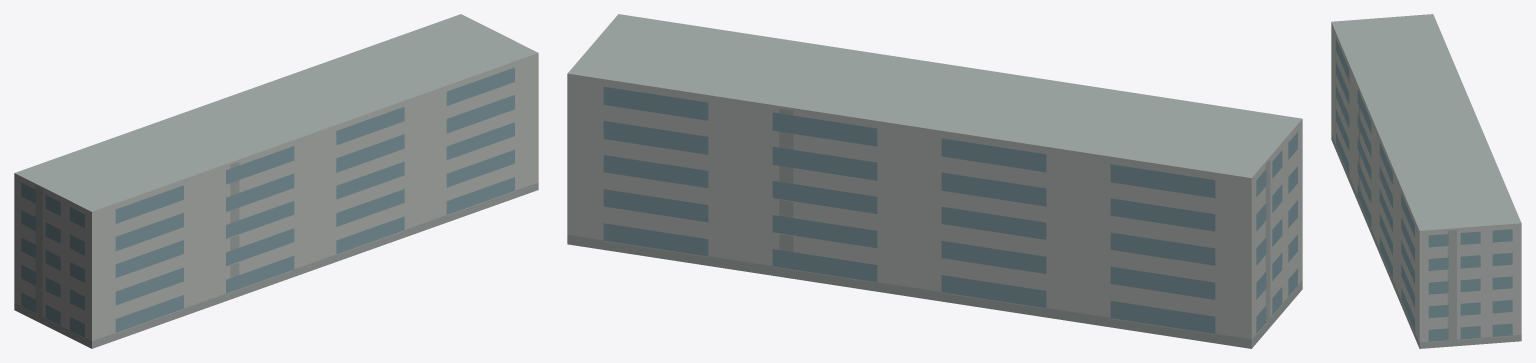
Rendered from residential-e2cade1a-f051-453e-b079-c11fb01564d8.glb.
3 views of the same model, side by side, from view 1: azimuth 30°, elevation 25°; view 2: azimuth 150°, elevation 25°; view 3: azimuth 270°, elevation 25° (orthographic). The views are drawn at different scales.
Visible parts, largest first — view 1: residential-e2cade1a-f051-453e-b079-c11fb01564d8.tmp; view 2: residential-e2cade1a-f051-453e-b079-c11fb01564d8.tmp; view 3: residential-e2cade1a-f051-453e-b079-c11fb01564d8.tmp.
Boxes of the visible parts, x1=… form: residential-e2cade1a-f051-453e-b079-c11fb01564d8.tmp: x1=14, y1=14, x2=538, y2=348; residential-e2cade1a-f051-453e-b079-c11fb01564d8.tmp: x1=567, y1=14, x2=1302, y2=348; residential-e2cade1a-f051-453e-b079-c11fb01564d8.tmp: x1=1331, y1=14, x2=1521, y2=348.
Bounding box in the file's own units: 60.11 × 15.25 × 22.29.
